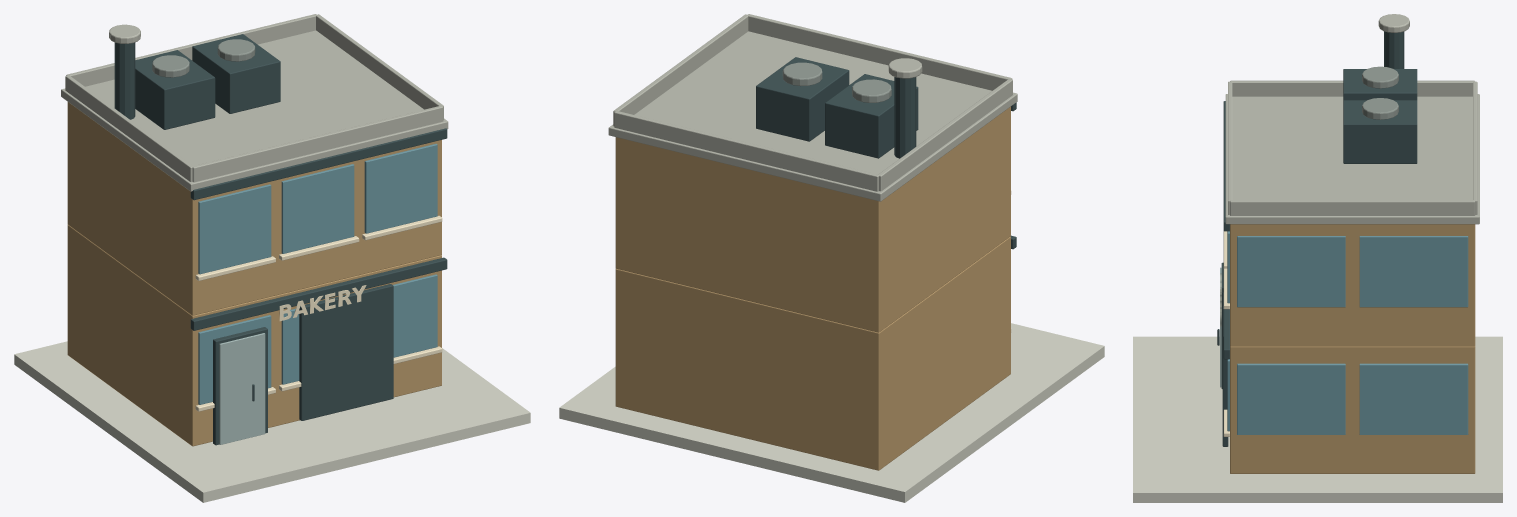
Rendered from medium-2x2-bakery-01.glb.
3 renders of one model, left to right at view 1: azimuth 30°, elevation 25°; view 2: azimuth 150°, elevation 25°; view 3: azimuth 270°, elevation 25°, orthographic. The views are drawn at different scales.
Parts seen in each view (by area): view 1: LotPlinth, ProductionFloor_02, ProductionFloor_01, RoofCap, LoadingDoor, FrontWindow_02, FrontWindow_02.002, FrontWindow_02.001, EntranceGlass, RooftopAirPlant, RoofParapet, RooftopAirPlant.001 (+16 smaller); view 2: ProductionFloor_01, ProductionFloor_02, LotPlinth, RoofCap, RoofParapet.001, RooftopAirPlant.001, RoofParapet, RooftopAirPlant, RoofParapet.002, RoofParapet.003, OvenExhaust, AirFilter.001 (+2 smaller); view 3: LotPlinth, RoofCap, ProductionFloor_01, ProductionFloor_02, SideWindow_01.001, SideWindow_02.001, SideWindow_02, SideWindow_01, RooftopAirPlant.001, RoofParapet.003, RoofParapet.002, RooftopAirPlant (+8 smaller).
Part boxes in pixels (x1=…): LotPlinth: x1=14, y1=341, x2=530, y2=502; ProductionFloor_02: x1=67, y1=102, x2=441, y2=315; ProductionFloor_01: x1=67, y1=225, x2=441, y2=446; RoofCap: x1=61, y1=30, x2=448, y2=191; LoadingDoor: x1=299, y1=284, x2=393, y2=420; FrontWindow_02: x1=198, y1=184, x2=271, y2=274; FrontWindow_02.002: x1=364, y1=143, x2=437, y2=233; FrontWindow_02.001: x1=281, y1=164, x2=354, y2=253; EntranceGlass: x1=219, y1=333, x2=265, y2=444; RooftopAirPlant: x1=135, y1=50, x2=215, y2=129; RoofParapet: x1=192, y1=105, x2=443, y2=182; RooftopAirPlant.001: x1=192, y1=34, x2=280, y2=113; ProductionFloor_01: x1=615, y1=236, x2=1010, y2=470; ProductionFloor_02: x1=615, y1=106, x2=1010, y2=332; LotPlinth: x1=559, y1=323, x2=1104, y2=502; RoofCap: x1=608, y1=31, x2=1017, y2=201; RoofParapet.001: x1=614, y1=111, x2=878, y2=191; RooftopAirPlant.001: x1=756, y1=57, x2=849, y2=141; RoofParapet: x1=747, y1=14, x2=1012, y2=90; RooftopAirPlant: x1=825, y1=74, x2=918, y2=158; RoofParapet.002: x1=878, y1=79, x2=1012, y2=191; RoofParapet.003: x1=613, y1=14, x2=748, y2=126; OvenExhaust: x1=894, y1=77, x2=916, y2=158; AirFilter.001: x1=782, y1=62, x2=822, y2=86; LotPlinth: x1=1133, y1=336, x2=1502, y2=502; RoofCap: x1=1225, y1=94, x2=1479, y2=224; ProductionFloor_01: x1=1230, y1=346, x2=1475, y2=473; ProductionFloor_02: x1=1230, y1=224, x2=1475, y2=346; SideWindow_01.001: x1=1359, y1=363, x2=1468, y2=434; SideWindow_02.001: x1=1359, y1=236, x2=1468, y2=307; SideWindow_02: x1=1237, y1=236, x2=1345, y2=307; SideWindow_01: x1=1237, y1=363, x2=1345, y2=434; RooftopAirPlant.001: x1=1343, y1=100, x2=1417, y2=163; RoofParapet.003: x1=1230, y1=200, x2=1475, y2=215; RoofParapet.002: x1=1230, y1=80, x2=1474, y2=96; RooftopAirPlant: x1=1343, y1=69, x2=1417, y2=100.
Bounding box in the file's own units: 8 × 8.42 × 8.
